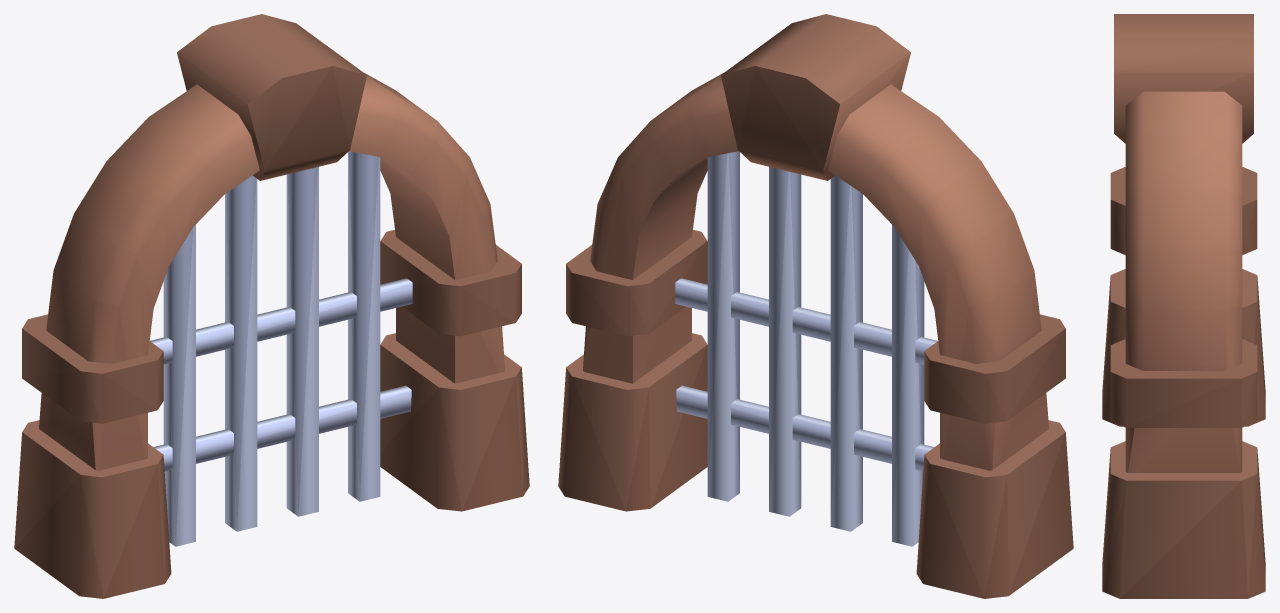
Rendered from kenney_cave_gate_metal_bars.glb.
3 renders of one model, left to right at view 1: azimuth 30°, elevation 25°; view 2: azimuth 150°, elevation 25°; view 3: azimuth 270°, elevation 25°, orthographic.
Parts seen in each view (by area): view 1: wood, metal; view 2: wood, metal; view 3: wood.
Boxes of the visible parts, x1,y1,x2,y2 form: wood: (14,14,529,598); metal: (150,151,412,546); wood: (558,14,1073,598); metal: (675,151,937,546); wood: (1102,14,1265,598).
Size of the model in its own units: 4.4 by 4.4 by 1.4.
